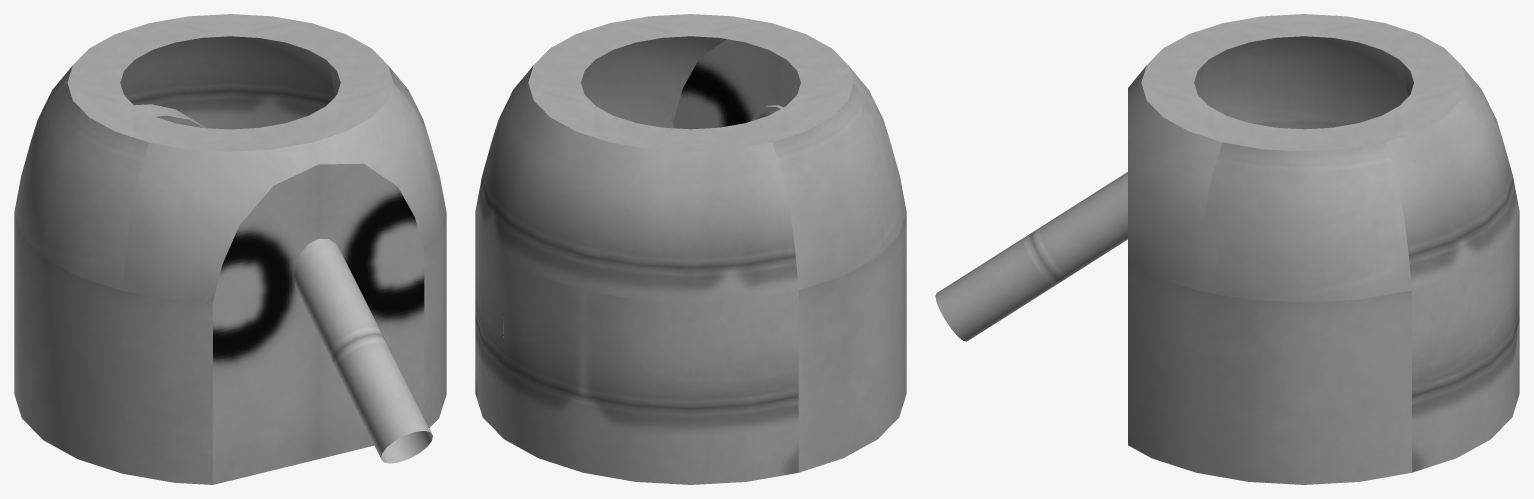
Rendered from vega_crew_s1_3_interior.obj.
3 renders of one model, left to right at view 1: azimuth 30°, elevation 25°; view 2: azimuth 150°, elevation 25°; view 3: azimuth 270°, elevation 25°, orthographic.
Visible parts, largest first — view 1: i1; view 2: i1; view 3: i1.
Boxes of the visible parts, x1,y1,x2,y2 form: i1: (14,14,446,484); i1: (475,14,906,484); i1: (935,14,1519,484).
Size of the model in its own units: 1.22 by 0.975 by 1.66.
